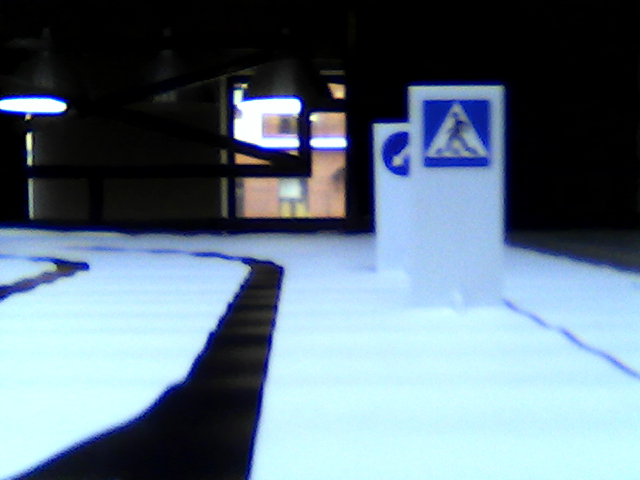pesh: (421, 98, 487, 168)
